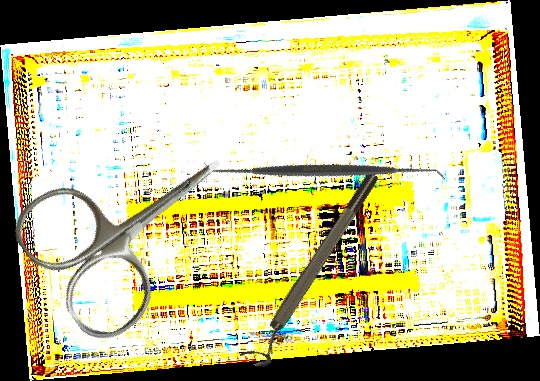Fixation Ring: (239, 168, 391, 373)
Iris Scissors: (3, 98, 267, 352)
Spatula Surgical: (203, 50, 446, 292)
